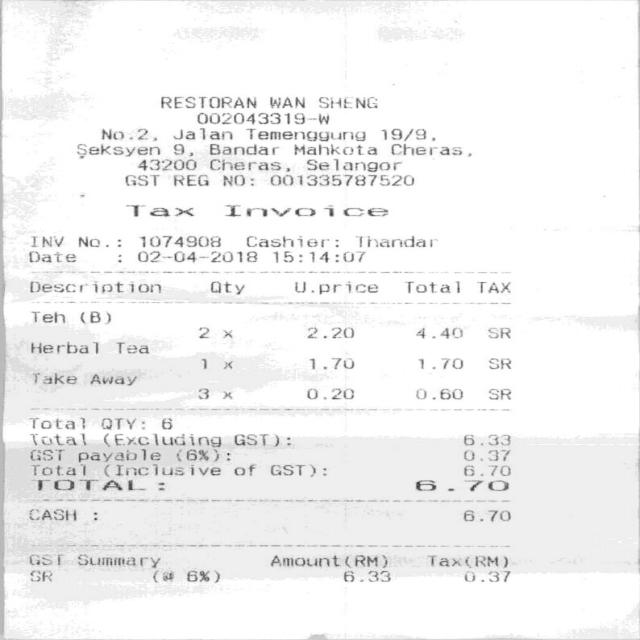text: (223, 204, 386, 216), (102, 433, 220, 447), (269, 554, 387, 568), (195, 112, 327, 124), (28, 281, 160, 293), (269, 174, 412, 185), (102, 463, 219, 476), (136, 250, 256, 262), (246, 128, 364, 140), (31, 479, 144, 491), (76, 143, 158, 158), (76, 553, 158, 568), (305, 158, 399, 171), (76, 448, 159, 462), (159, 96, 255, 108), (413, 479, 508, 491), (244, 235, 336, 247), (272, 250, 364, 262), (294, 281, 376, 294), (355, 235, 436, 247), (426, 555, 507, 567), (390, 143, 470, 155), (208, 159, 288, 171), (138, 235, 218, 247), (292, 143, 374, 154), (124, 204, 192, 216), (30, 341, 97, 353), (208, 143, 276, 154), (268, 463, 324, 476), (172, 127, 232, 139), (30, 463, 85, 476), (175, 448, 229, 461), (317, 96, 375, 108), (136, 158, 194, 170), (403, 281, 460, 293), (28, 433, 84, 445), (233, 434, 289, 446), (100, 128, 155, 140), (29, 416, 84, 428), (88, 372, 134, 385), (27, 250, 74, 262), (27, 508, 74, 520), (462, 509, 508, 521), (462, 570, 508, 582), (31, 372, 76, 384), (380, 128, 424, 140), (304, 327, 352, 338), (304, 388, 352, 399), (414, 388, 461, 399), (414, 327, 460, 338), (462, 434, 508, 445), (462, 449, 508, 460), (462, 464, 508, 475), (342, 570, 388, 581), (307, 358, 352, 368), (417, 358, 460, 368), (100, 418, 143, 428), (210, 281, 243, 294), (185, 569, 218, 582), (29, 311, 63, 323), (476, 281, 509, 293), (29, 449, 64, 460), (27, 553, 62, 564), (114, 341, 146, 353), (268, 96, 302, 107), (124, 174, 158, 185), (172, 174, 206, 185), (79, 311, 109, 323), (31, 236, 62, 247), (222, 174, 252, 185), (150, 569, 172, 582), (27, 569, 50, 581), (233, 463, 255, 475), (486, 327, 508, 338), (486, 388, 508, 399), (172, 143, 191, 155), (76, 236, 98, 246), (487, 358, 509, 368), (197, 327, 208, 338), (197, 387, 208, 398), (221, 328, 232, 338), (160, 418, 170, 428), (220, 390, 231, 399), (222, 360, 232, 368), (199, 358, 206, 368)
